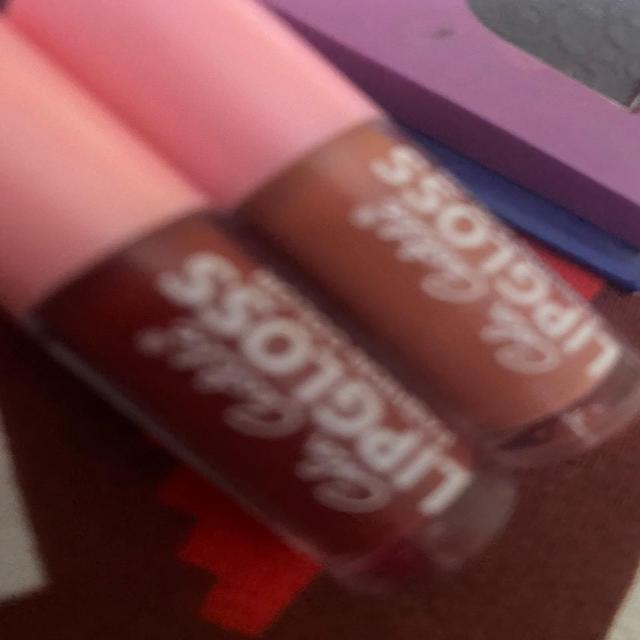lip gloss: (10, 0, 640, 584)
